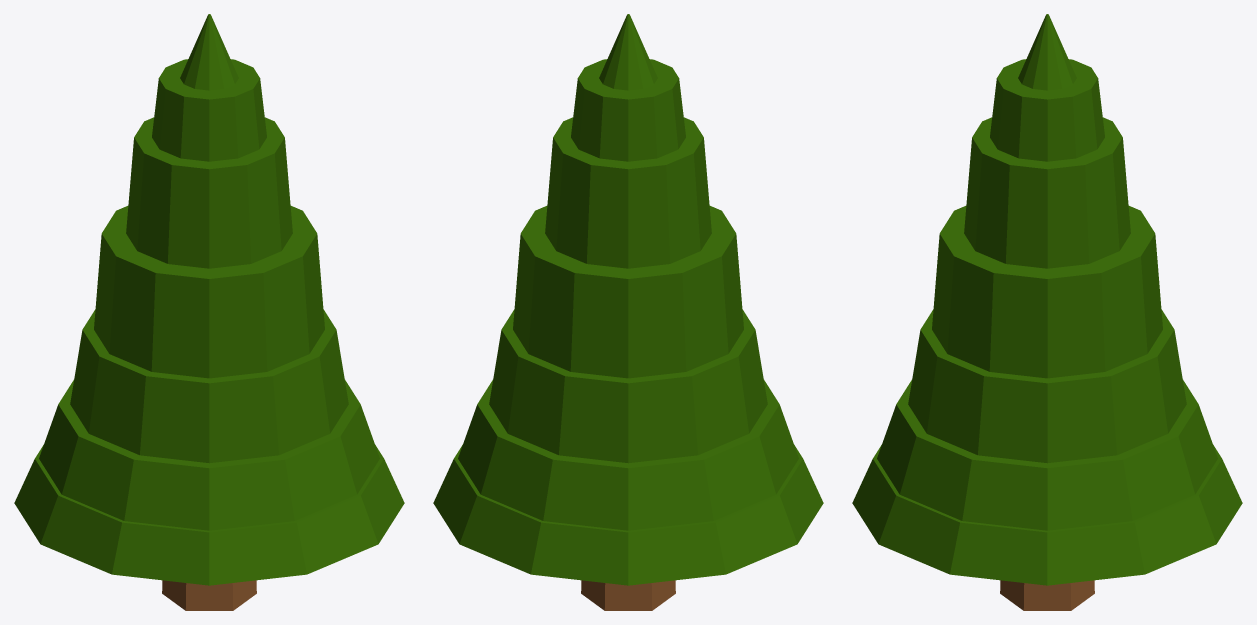
File: ConeTree.fbx
3 renders of one model, left to right at view 1: azimuth 30°, elevation 25°; view 2: azimuth 150°, elevation 25°; view 3: azimuth 270°, elevation 25°, orthographic.
Visible parts, largest first — view 1: Cylinder.006, Pillar.001; view 2: Cylinder.006, Pillar.001; view 3: Cylinder.006, Pillar.001.
Part boxes in pixels (bbox=[...]): Cylinder.006: bbox=[14, 14, 404, 585]; Pillar.001: bbox=[162, 580, 256, 610]; Cylinder.006: bbox=[433, 14, 823, 585]; Pillar.001: bbox=[581, 580, 675, 610]; Cylinder.006: bbox=[852, 14, 1242, 585]; Pillar.001: bbox=[1000, 580, 1094, 610].
Bounding box in the file's own units: 518 × 848 × 518.
